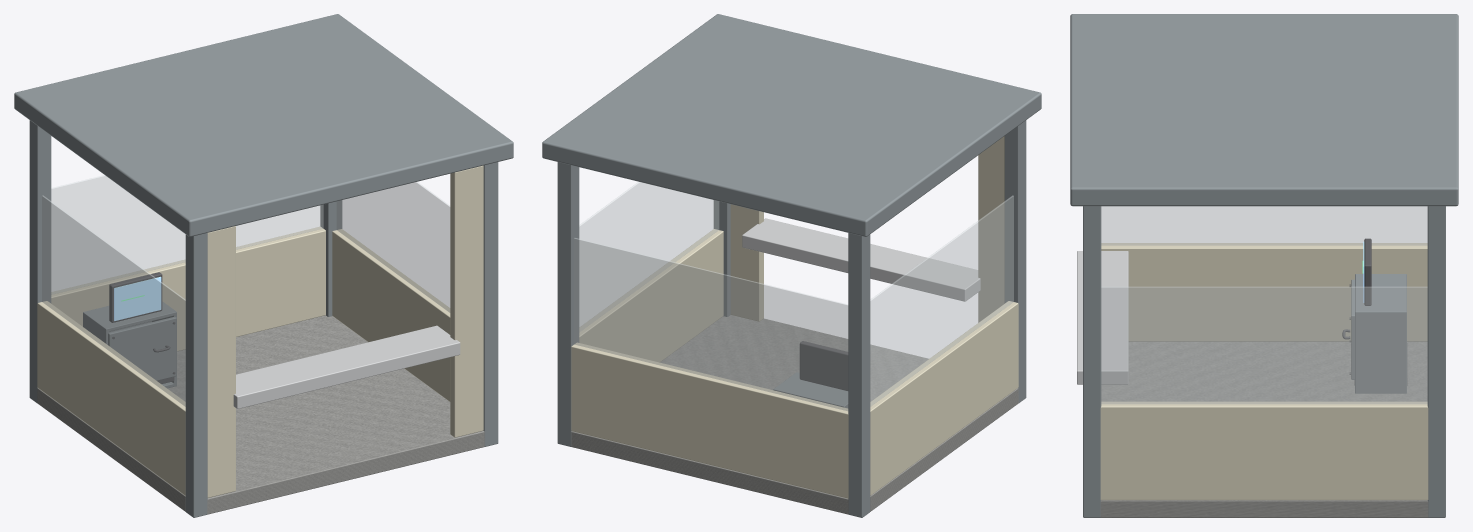
Rendered from prison-complex-builder-gatehouse-5019f1c7__25635.glb.
The picture shows the model from 3 angles, left to right: view 1: azimuth 30°, elevation 25°; view 2: azimuth 150°, elevation 25°; view 3: azimuth 270°, elevation 25°; orthographic projection. The views are drawn at different scales.
Visible parts, largest first — view 1: gatehouse, door-1/steelPainted; view 2: gatehouse; view 3: gatehouse.
Part boxes in pixels (x1,y1,x2,y2): gatehouse: (14,14,513,517); door-1/steelPainted: (108,316,176,380); gatehouse: (542,14,1041,517); gatehouse: (1070,14,1458,517).
Size of the model in its own units: 3.2 by 2.86 by 3.
8 materials, 1 textured.
